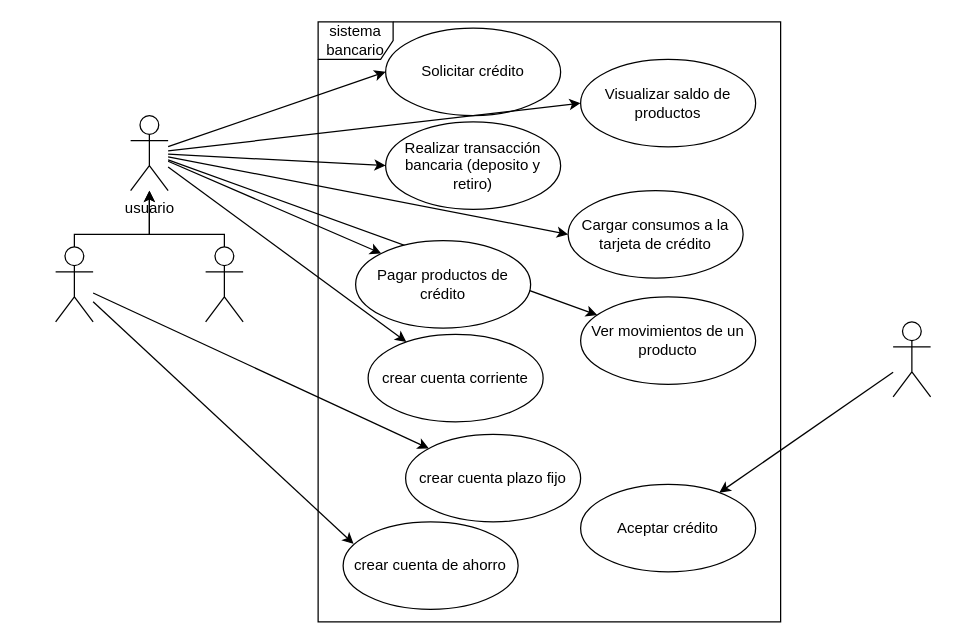
The diagram is 954 pixels wide and 644 high, and some of its shapes have lost their labels. Each missing label, with the centre of its shape:
admin: pixel 911 359
cliente empresarial: pixel 223 284
cliente personal: pixel 73 284
